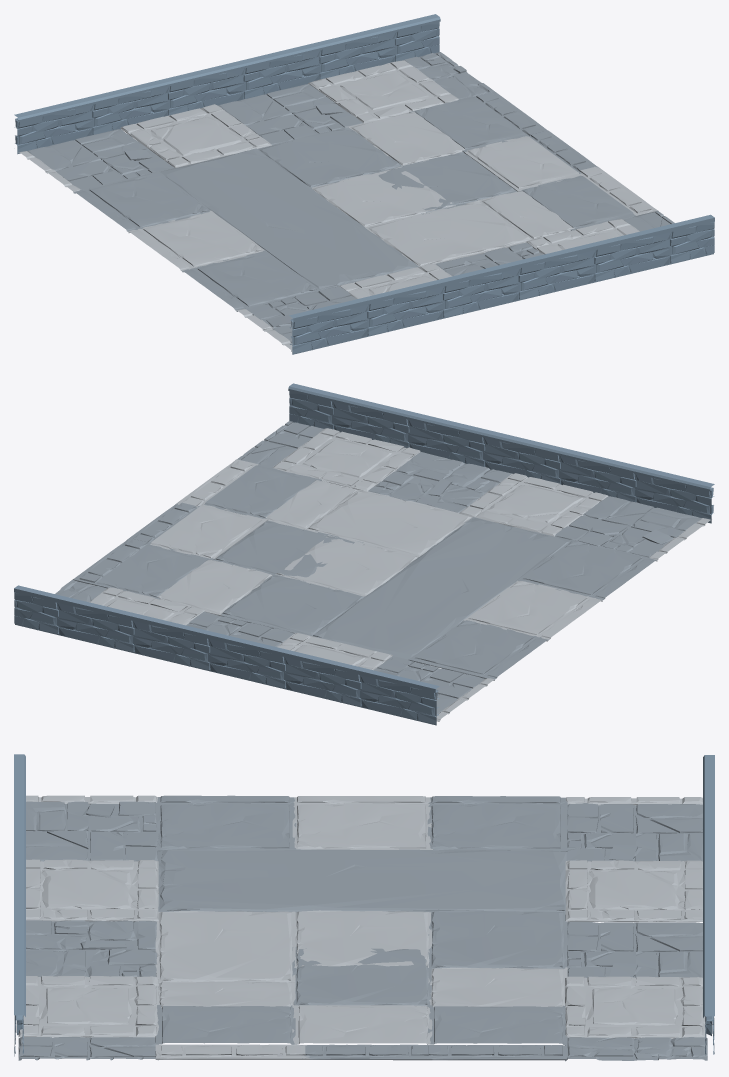
Rendered from TrackStraight_04.glb.
3 renders of one model, top to bottom at view 1: azimuth 30°, elevation 25°; view 2: azimuth 150°, elevation 25°; view 3: azimuth 270°, elevation 25°, orthographic. The views are drawn at different scales.
Visible parts, largest first — view 1: StraightKitPavingDark01, StraightKitPavingSlate01, StraightKitWallNeutral01, StraightKitPavingDarkEndBand01, StraightKitPavingSlateEndBand01; view 2: StraightKitPavingDark01, StraightKitPavingSlate01, StraightKitWallNeutral01, StraightKitPavingDarkEndBand01, StraightKitPavingSlateEndBand01; view 3: StraightKitPavingDark01, StraightKitPavingSlate01, StraightKitWallNeutral01, StraightKitPavingDarkEndBand01, StraightKitPavingSlateEndBand01.
Part boxes in pixels (x1,y1,x2,y2): StraightKitPavingDark01: (27, 52, 674, 342); StraightKitPavingSlate01: (18, 60, 639, 351); StraightKitWallNeutral01: (14, 14, 714, 354); StraightKitPavingDarkEndBand01: (473, 91, 598, 173); StraightKitPavingSlateEndBand01: (578, 166, 657, 215); StraightKitPavingDark01: (55, 421, 701, 714); StraightKitPavingSlate01: (89, 428, 711, 721); StraightKitWallNeutral01: (14, 383, 714, 725); StraightKitPavingDarkEndBand01: (74, 502, 199, 584); StraightKitPavingSlateEndBand01: (175, 459, 258, 507); StraightKitPavingDark01: (18, 795, 707, 1061); StraightKitPavingSlate01: (18, 795, 705, 1044); StraightKitWallNeutral01: (14, 754, 714, 1056); StraightKitPavingDarkEndBand01: (300, 1044, 566, 1060); StraightKitPavingSlateEndBand01: (155, 1044, 309, 1059).
Size of what is drawn, in the model's own units: 52.87 by 4.81 by 60.61.
